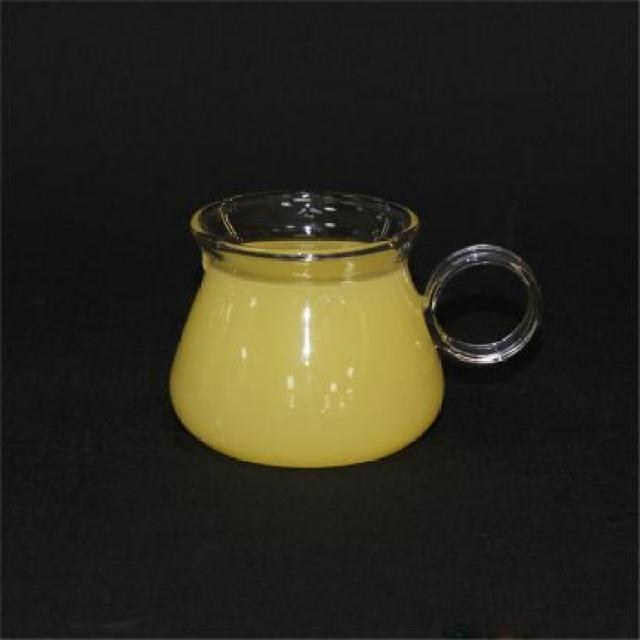taza: (169, 186, 539, 468)
